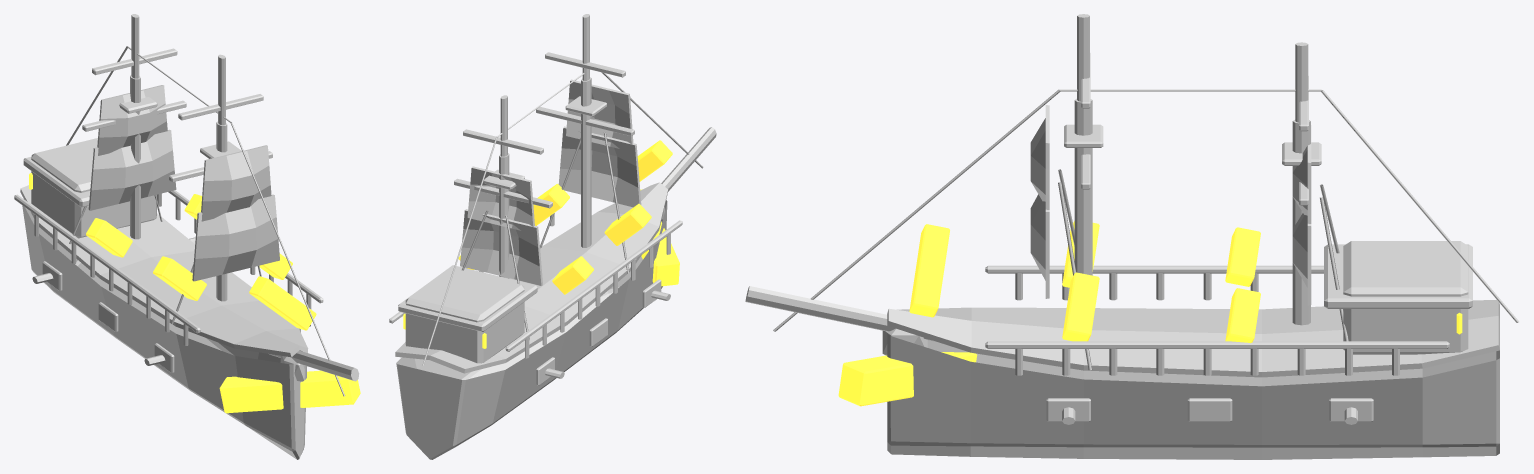
Rendered from enemy_frost_cutter_v04.fbx.
The picture shows the model from 3 angles, left to right: view 1: azimuth 30°, elevation 25°; view 2: azimuth 150°, elevation 25°; view 3: azimuth 270°, elevation 25°; orthographic projection. The views are drawn at different scales.
Parts seen in each view (by area): view 1: Enemy_Corsair_Hull, Enemy_Corsair_Deck, Sail_1_1, Stern_GreatCabin, Sail_2_1, Sail_1_2, FrostCutter_Ice_Prow, Sail_2_2, FrostCutter_Ice_Crystal_1, Tier_2_Starboard_TopRail, FrostCutter_Ice_Crystal_3, Mast_2_Lower (+15 smaller); view 2: Enemy_Corsair_Hull, Enemy_Corsair_Deck, Stern_GreatCabin, Sail_1_1, Sail_2_1, Sail_2_2, Sail_1_2, Stern_Quarterdeck, Mast_1_Lower, Tier_2_Starboard_TopRail, FrostCutter_Ice_Prow, FrostCutter_Ice_Crystal_3 (+15 smaller); view 3: Enemy_Corsair_Hull, Enemy_Corsair_Deck, Stern_GreatCabin, Tier_2_Port_TopRail, FrostCutter_Ice_Prow, Stern_Quarterdeck, Mast_1_Lower, FrostCutter_Ice_Crystal_1, Bowsprit_Main, Tier_2_Starboard_TopRail, FrostCutter_Ice_Crystal_2, FrostCutter_Ice_Crystal_5 (+14 smaller).
Part boxes in pixels (bbox=[...]): Enemy_Corsair_Hull: bbox=[22, 198, 306, 459]; Enemy_Corsair_Deck: bbox=[20, 185, 308, 357]; Sail_1_1: bbox=[192, 194, 279, 281]; Stern_GreatCabin: bbox=[31, 138, 156, 238]; Sail_2_1: bbox=[88, 129, 176, 210]; Sail_1_2: bbox=[201, 145, 271, 221]; FrostCutter_Ice_Prow: bbox=[219, 370, 360, 413]; Sail_2_2: bbox=[97, 85, 167, 155]; FrostCutter_Ice_Crystal_1: bbox=[249, 276, 316, 330]; Tier_2_Starboard_TopRail: bbox=[14, 194, 200, 333]; FrostCutter_Ice_Crystal_3: bbox=[153, 256, 206, 300]; Mast_2_Lower: bbox=[130, 75, 140, 239]; Enemy_Corsair_Hull: bbox=[396, 200, 667, 459]; Enemy_Corsair_Deck: bbox=[395, 182, 668, 373]; Stern_GreatCabin: bbox=[405, 267, 524, 363]; Sail_1_1: bbox=[558, 126, 641, 207]; Sail_2_1: bbox=[460, 209, 542, 285]; Sail_2_2: bbox=[467, 166, 534, 230]; Sail_1_2: bbox=[566, 79, 633, 148]; Stern_Quarterdeck: bbox=[398, 265, 537, 331]; Mast_1_Lower: bbox=[581, 77, 591, 247]; Tier_2_Starboard_TopRail: bbox=[505, 220, 682, 351]; FrostCutter_Ice_Prow: bbox=[640, 189, 679, 286]; FrostCutter_Ice_Crystal_3: bbox=[604, 203, 651, 245]; Enemy_Corsair_Hull: bbox=[887, 334, 1499, 459]; Enemy_Corsair_Deck: bbox=[887, 299, 1499, 377]; Stern_GreatCabin: bbox=[1343, 241, 1468, 354]; Tier_2_Port_TopRail: bbox=[985, 341, 1449, 348]; FrostCutter_Ice_Prow: bbox=[838, 352, 977, 406]; Stern_Quarterdeck: bbox=[1324, 244, 1472, 308]; Mast_1_Lower: bbox=[1074, 98, 1092, 275]; FrostCutter_Ice_Crystal_1: bbox=[909, 224, 949, 317]; Bowsprit_Main: bbox=[745, 286, 936, 341]; Tier_2_Starboard_TopRail: bbox=[985, 265, 1323, 273]; FrostCutter_Ice_Crystal_2: bbox=[1062, 272, 1099, 341]; FrostCutter_Ice_Crystal_5: bbox=[1225, 227, 1260, 286].
Bounding box in the file's own units: 1.28 × 2.65 × 4.2.
